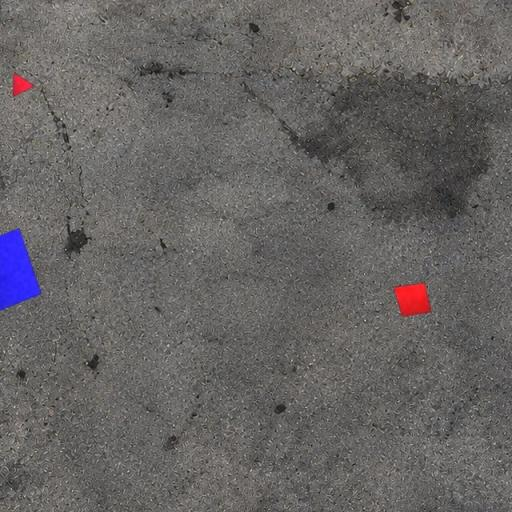BLUE_SQUARE: (0, 228, 42, 317)
RED_SQUARE: (393, 282, 432, 318)
